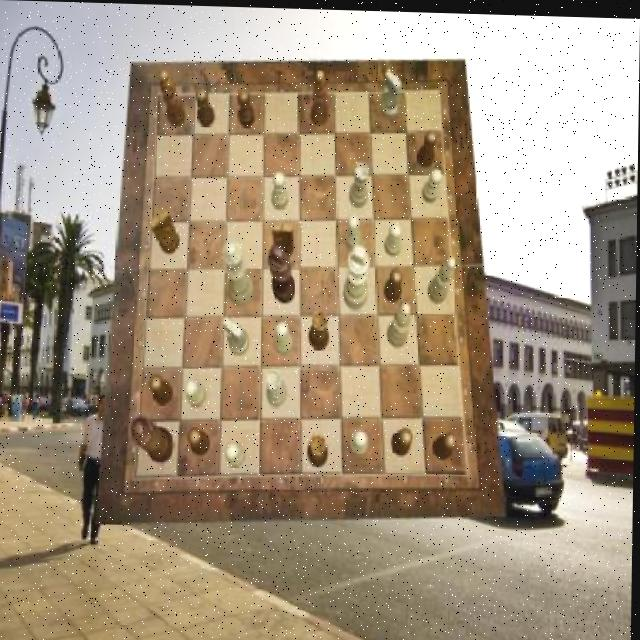bishop: (159, 70, 187, 126), (310, 69, 329, 124)
black-bishop: (269, 243, 297, 302)
black-king: (149, 207, 181, 253), (272, 222, 295, 258)
black-knight: (195, 88, 215, 128), (417, 126, 437, 165), (150, 374, 174, 406), (237, 87, 255, 126), (434, 430, 458, 459), (187, 428, 211, 456), (384, 266, 403, 300), (392, 427, 414, 454)
black-pawn: (132, 415, 175, 462)
black-queen: (309, 309, 330, 347), (308, 432, 329, 466)
black-rook: (429, 255, 457, 303), (388, 300, 412, 346)
white-bishop: (343, 242, 369, 308)
white-king: (223, 315, 250, 354), (380, 67, 401, 117)
white-knight: (421, 165, 441, 200), (272, 171, 289, 209), (185, 378, 208, 406), (275, 320, 293, 355), (384, 220, 402, 255), (346, 213, 362, 249), (227, 441, 247, 467), (349, 427, 369, 452)
white-pawn: (222, 239, 256, 304)
white-queen: (349, 160, 369, 206), (268, 368, 288, 406)
